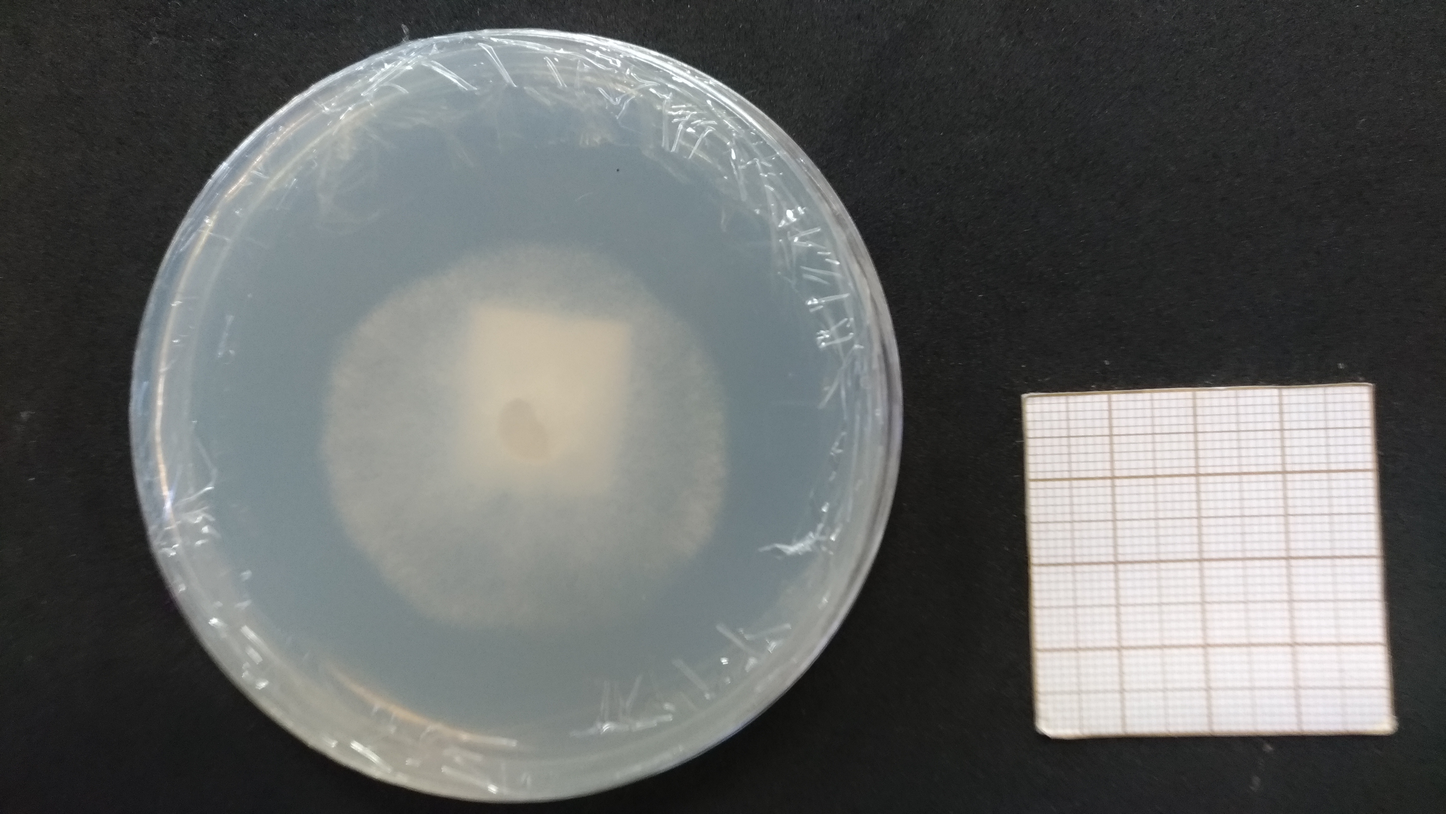escala: (1024, 384, 1391, 741)
fungo: (313, 244, 711, 626)
